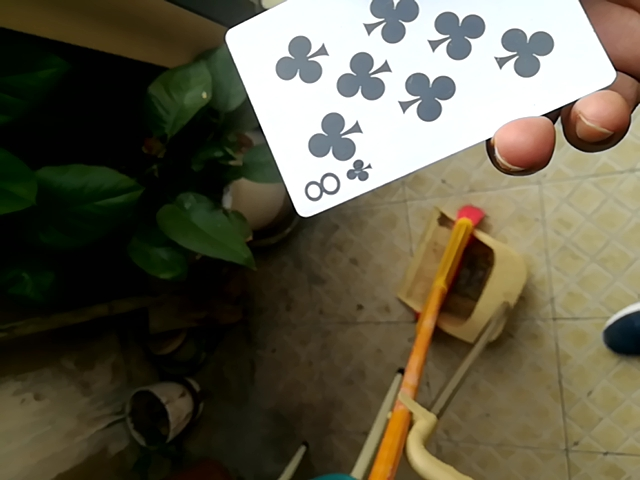mh 8: (214, 0, 631, 226)
